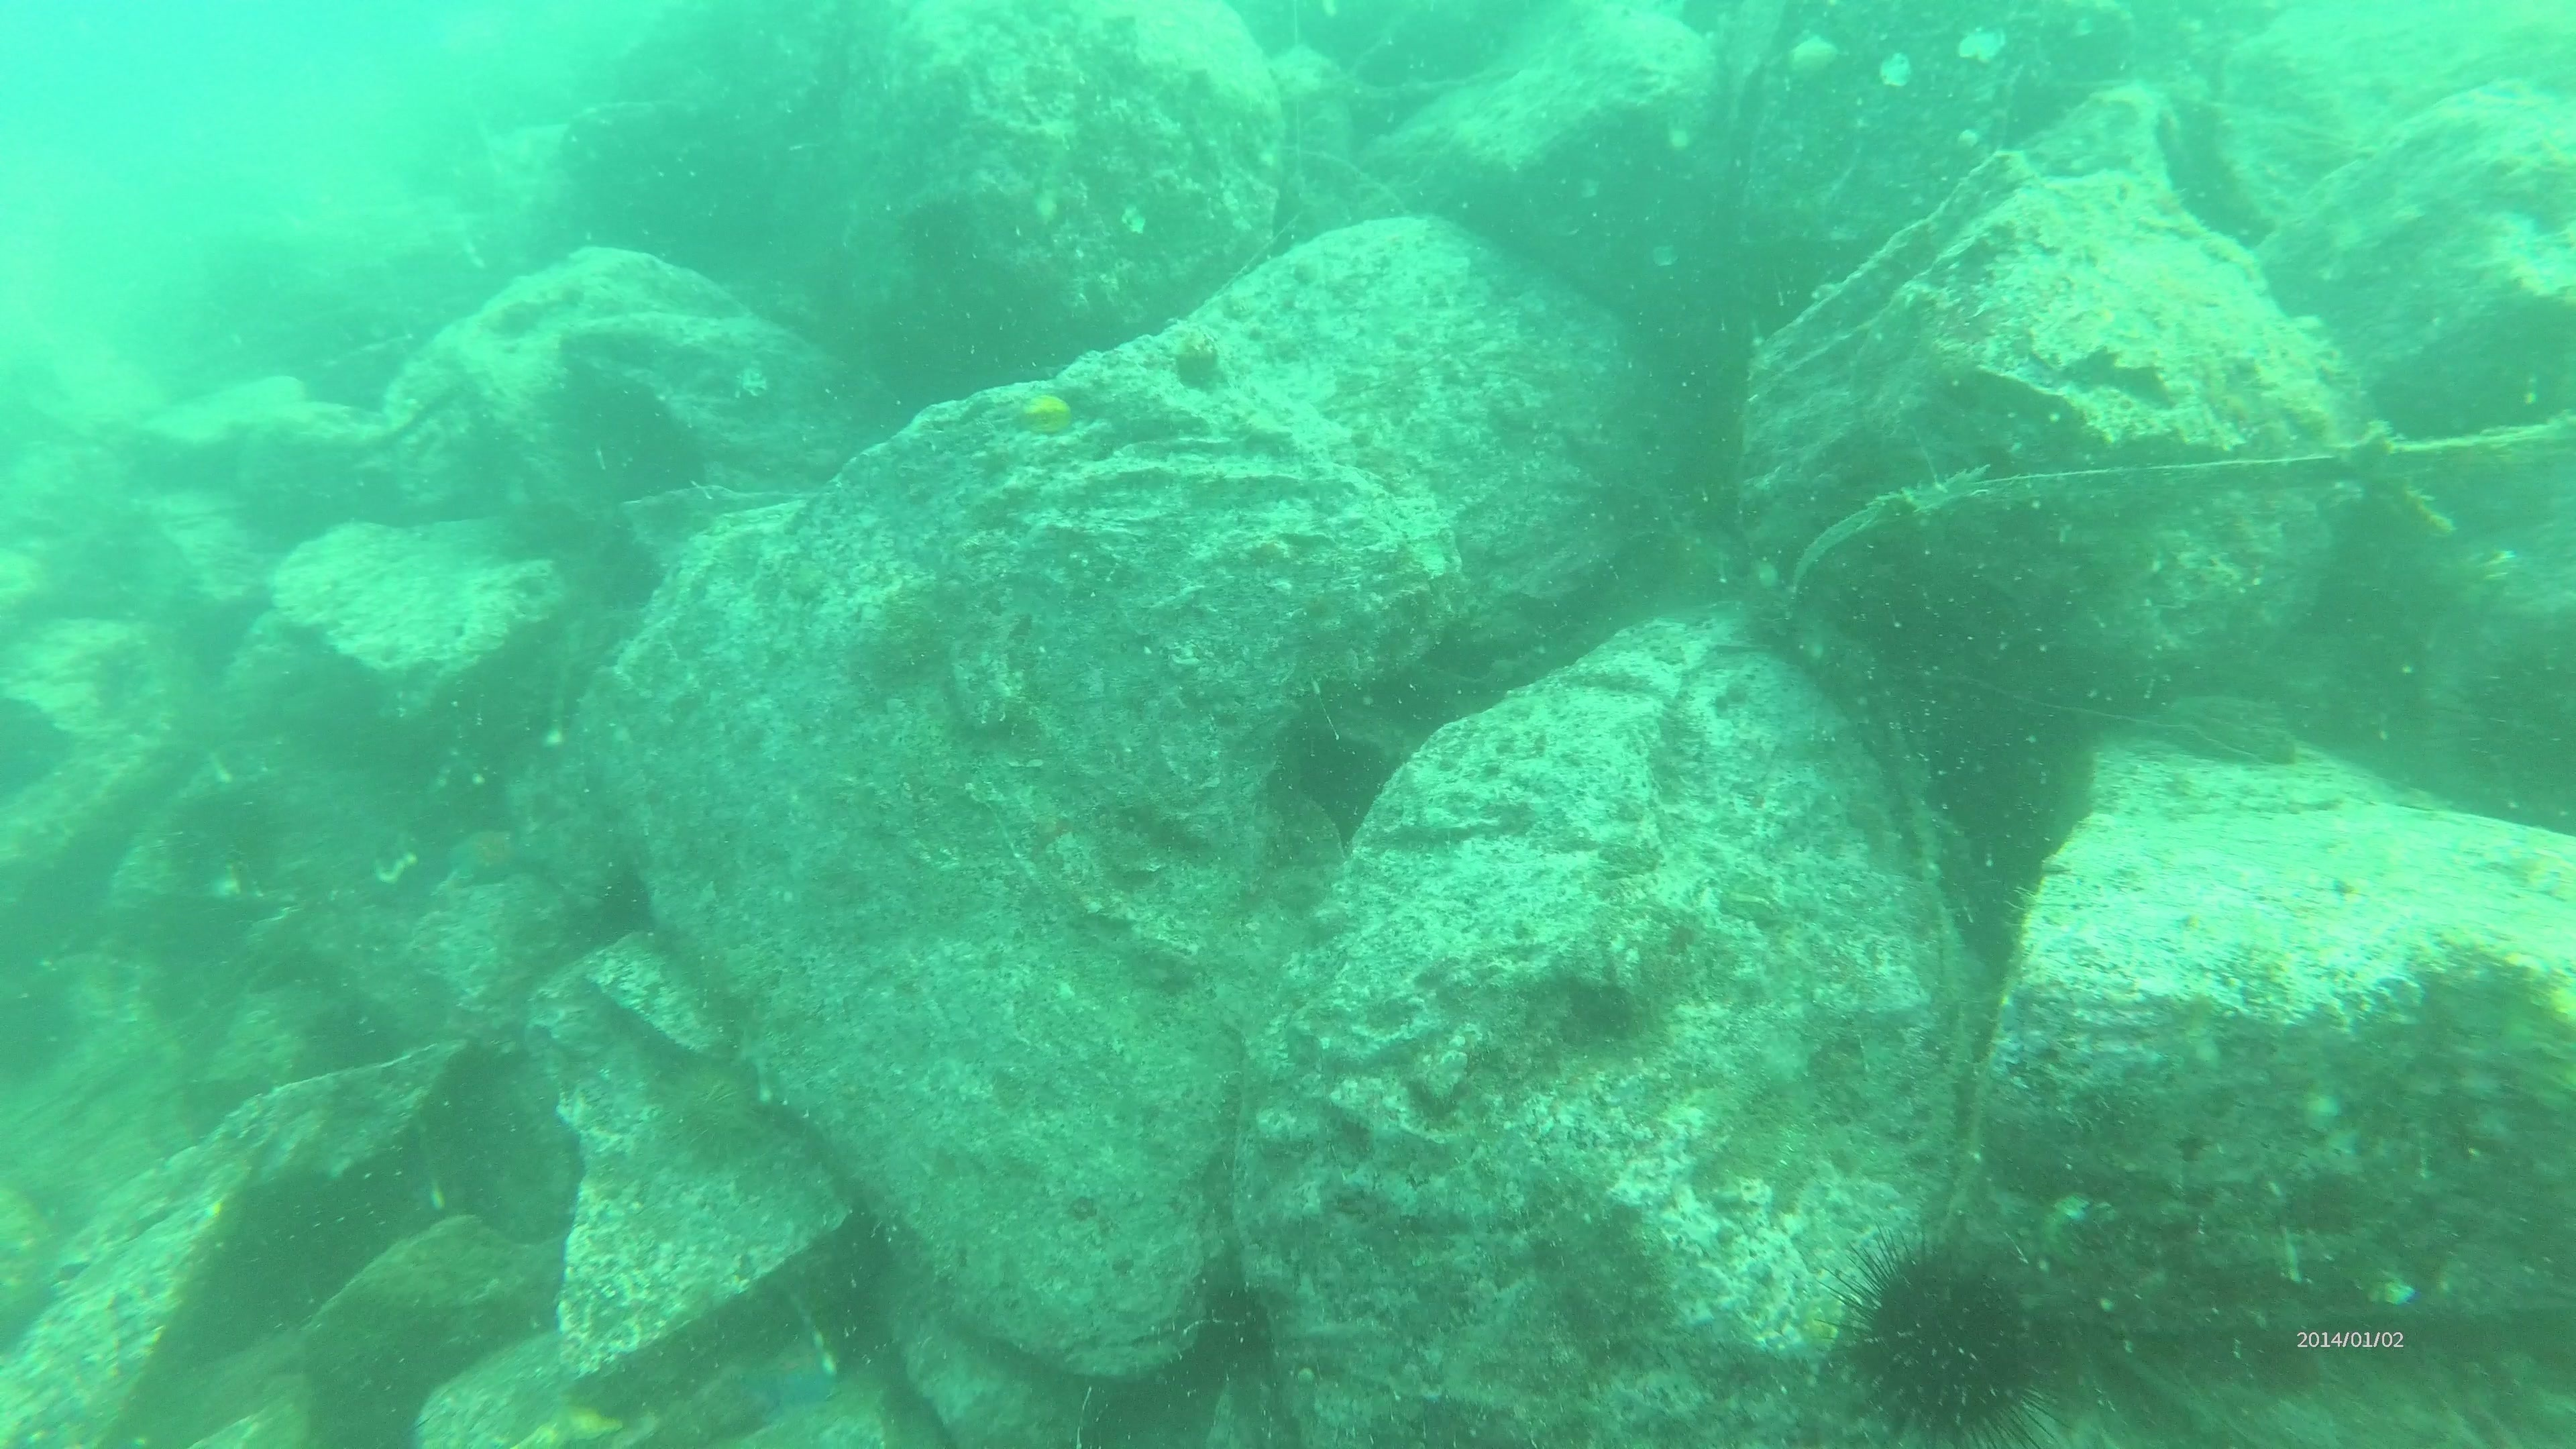echinus: (1826, 1230, 2065, 1444), (2445, 621, 2574, 821), (538, 364, 711, 513), (644, 1044, 780, 1175), (156, 771, 292, 902)
starfish: (722, 1323, 849, 1428), (435, 816, 550, 895)
